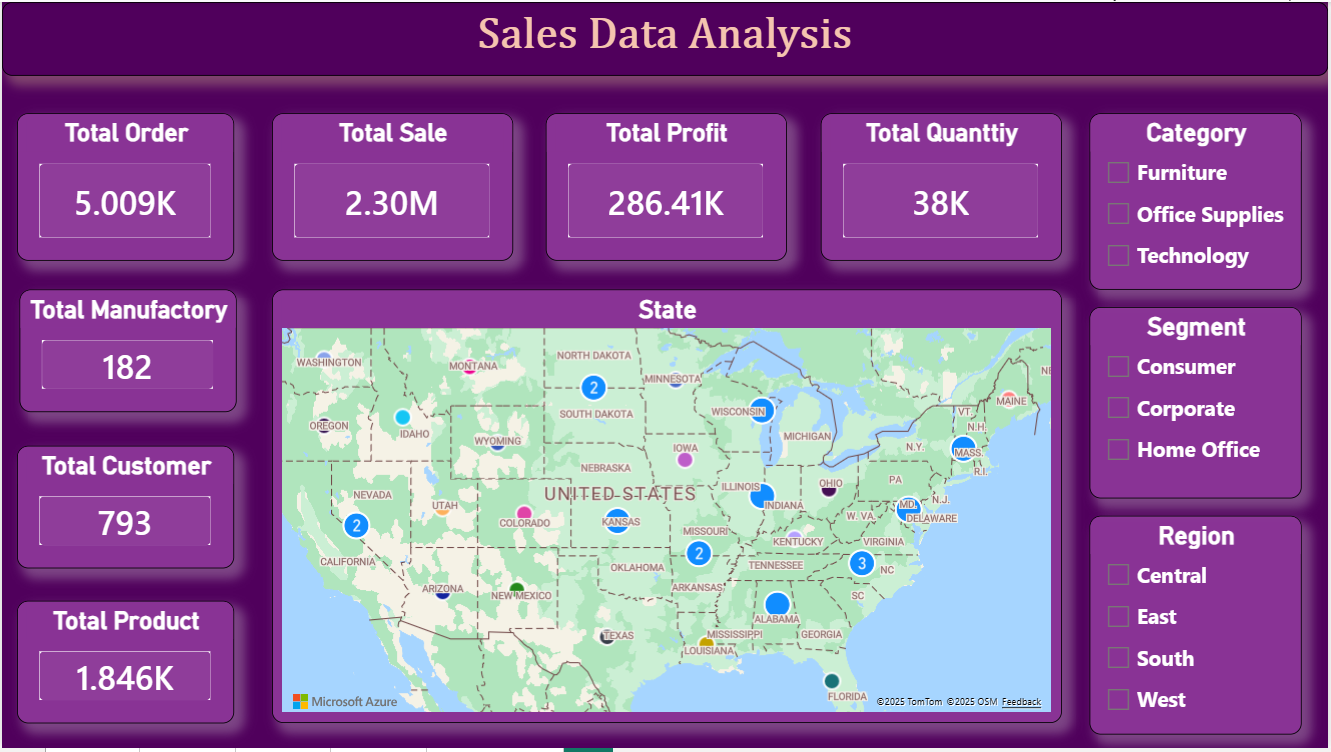

What the dashboard file says about the page in this screenshot:
{"tool":"powerbi","page":{"name":"Page 1","canvas":[1280,720],"ordinal":0},"visuals":[{"type":"textbox","box":[0,0,1280,71.2],"z":0},{"type":"cardVisual","title":"Total Order","fields":{"Data":["Count(sales_analysis sales_data.order_id)"]},"box":[14.5,107.4,209.9,142.4],"z":1000},{"type":"cardVisual","title":"Total Manufactory","fields":{"Data":["Count(sales_analysis sales_data.manufactory)"]},"box":[16.9,277.5,209.9,118.2],"z":2000},{"type":"cardVisual","title":"Total Product","fields":{"Data":["Count(sales_analysis sales_data.product_name)"]},"box":[14.5,577.9,209.9,118.2],"z":3000},{"type":"cardVisual","title":"Total Customer","fields":{"Data":["Count(sales_analysis sales_data.customer)"]},"box":[14.5,428.3,209.9,118.2],"z":4000},{"type":"cardVisual","title":"Total Profit","fields":{"Data":["Sum(sales_analysis sales_data.profit)"]},"box":[524.8,107.4,232.8,142.4],"z":5000},{"type":"cardVisual","title":"Total Sale","fields":{"Data":["Sum(sales_analysis sales_data.sales)"]},"box":[260.6,107.4,232.8,142.4],"z":6000},{"type":"cardVisual","title":"Total Quanttiy","fields":{"Data":["Sum(sales_analysis sales_data.quantity)"]},"box":[790.2,107.4,232.8,142.4],"z":7000},{"type":"azureMap","title":"State","fields":{"Category":["sales_analysis sales_data.state"],"Series":["sales_analysis sales_data.state"]},"box":[260.6,277.5,762.5,418.6],"z":8000},{"type":"slicer","title":"Region","fields":{"Values":["sales_analysis sales_data.region"]},"box":[1049.6,495.8,205.1,211.1],"z":9000},{"type":"slicer","title":"Segment","fields":{"Values":["sales_analysis sales_data.segment"]},"box":[1049.6,294.4,205.1,184.6],"z":10000},{"type":"slicer","title":"Category","fields":{"Values":["sales_analysis sales_data.category"]},"box":[1049.6,107.4,205.1,170.1],"z":11000}]}

Visuals, with their boxes in screenshot pixels (x1, y1, x2, y2), scaled from the page's 1280x720 canvas onto the 1331x752 screenshot:
textbox: box(0, 0, 1330, 74)
"Total Order" cardVisual: box(15, 112, 233, 261)
"Total Manufactory" cardVisual: box(18, 290, 236, 413)
"Total Product" cardVisual: box(15, 604, 233, 727)
"Total Customer" cardVisual: box(15, 447, 233, 571)
"Total Profit" cardVisual: box(546, 112, 788, 261)
"Total Sale" cardVisual: box(271, 112, 513, 261)
"Total Quanttiy" cardVisual: box(822, 112, 1064, 261)
"State" azureMap: box(271, 290, 1064, 727)
"Region" slicer: box(1091, 518, 1305, 738)
"Segment" slicer: box(1091, 307, 1305, 500)
"Category" slicer: box(1091, 112, 1305, 290)
